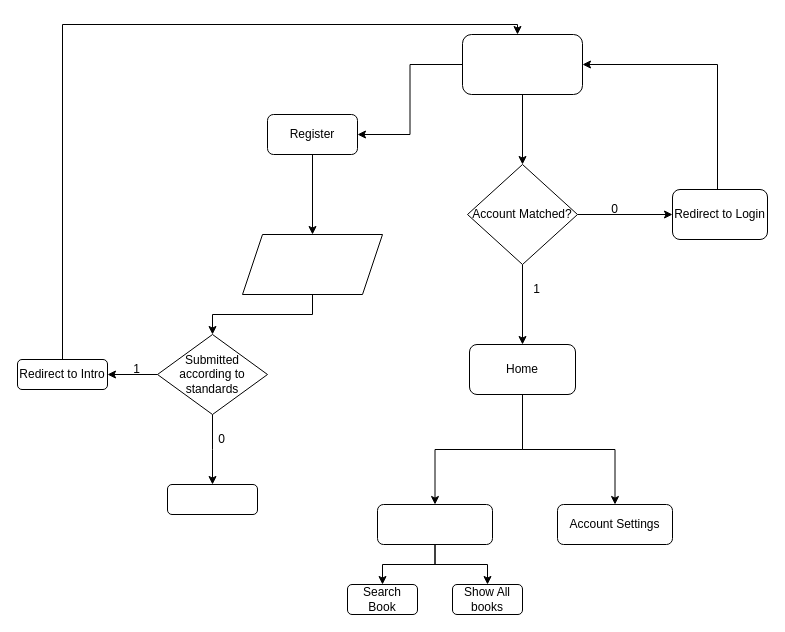
Image size: 785x632. Some labels were removed from this diagram. Each missing label, with the centre of its shape:
"(ERR.CD:4)" belongs at (212,499).
"Enter Username Enter Password Enter Fullname Enter Birthdate" belongs at (312,264).
"Library" belongs at (434,524).
"Login Page" belongs at (522,64).
